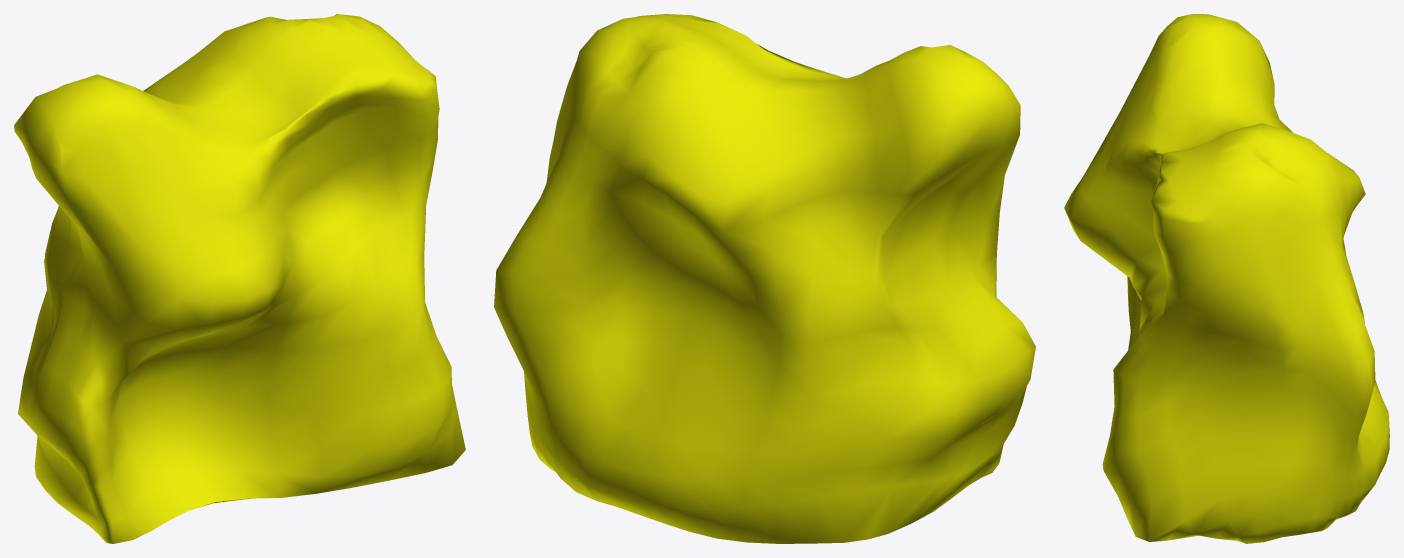
Rendered from E_Mur_02.fbx.
3 renders of one model, left to right at view 1: azimuth 30°, elevation 25°; view 2: azimuth 150°, elevation 25°; view 3: azimuth 270°, elevation 25°, orthographic. The views are drawn at different scales.
Visible parts, largest first — view 1: bolder97; view 2: bolder97; view 3: bolder97.
Boxes of the visible parts, x1,y1,x2,y2 form: bolder97: [14, 14, 465, 543]; bolder97: [494, 14, 1035, 543]; bolder97: [1064, 14, 1389, 543].
Bounding box in the file's own units: 2.44 × 2.41 × 1.87.
